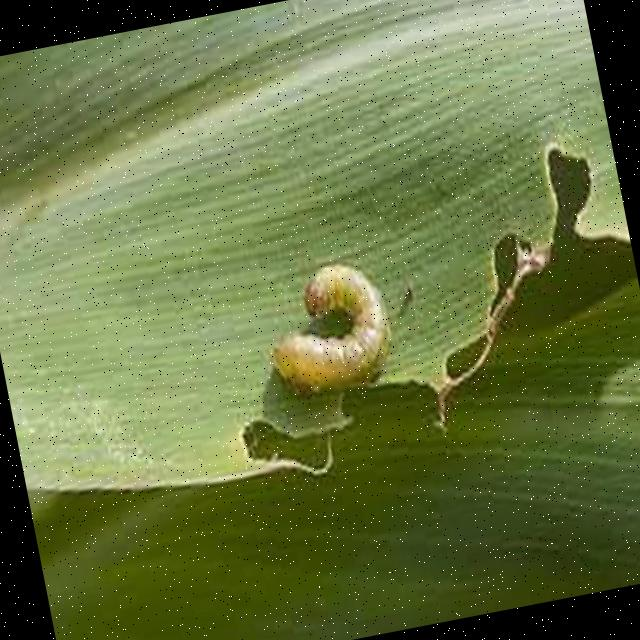worm: (254, 256, 402, 407)
